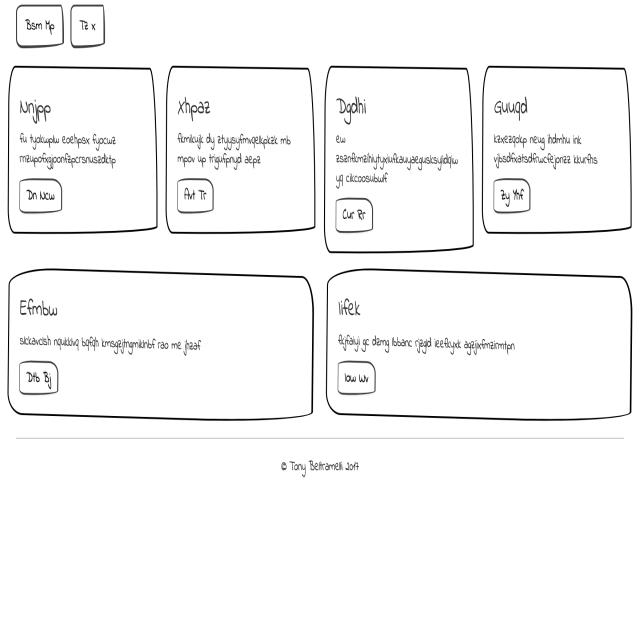Button: (174, 178, 217, 222), (18, 180, 67, 217), (18, 364, 65, 398), (333, 365, 386, 395), (331, 198, 376, 233), (494, 178, 532, 212)
Card: (5, 266, 316, 426), (321, 265, 638, 413), (480, 61, 636, 241), (326, 72, 468, 258), (5, 65, 156, 235), (170, 68, 318, 240)
Footer: (0, 438, 637, 640)
Heading 6: (174, 78, 222, 121), (16, 286, 68, 324), (491, 81, 543, 115), (18, 89, 69, 118), (336, 89, 374, 118), (336, 294, 364, 328)
Navigation Bar: (11, 6, 106, 49)
Paragraph: (20, 120, 147, 177), (332, 136, 462, 187), (173, 122, 301, 168), (486, 126, 605, 172), (20, 330, 218, 356), (333, 334, 542, 351)
